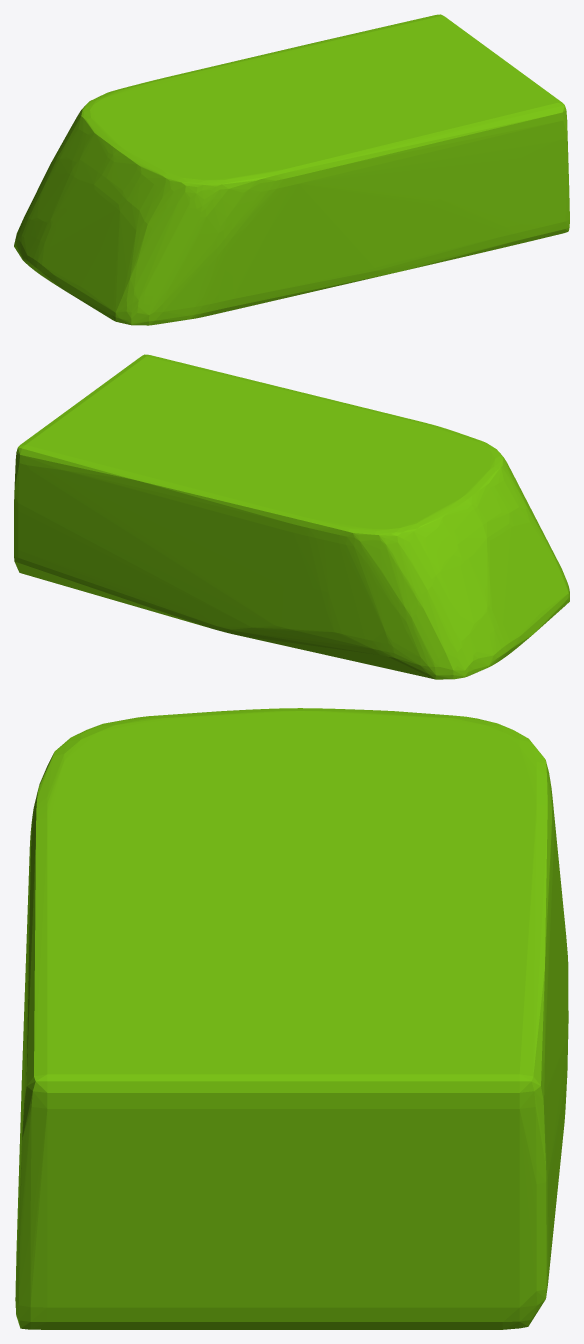
The model's file is left-shin-0_part_4.obj.
The picture shows the model from 3 angles, top to bottom: view 1: azimuth 30°, elevation 25°; view 2: azimuth 150°, elevation 25°; view 3: azimuth 270°, elevation 25°; orthographic projection. The views are drawn at different scales.
Bounding box in the file's own units: 0.1228 × 0.0334 × 0.0662.
